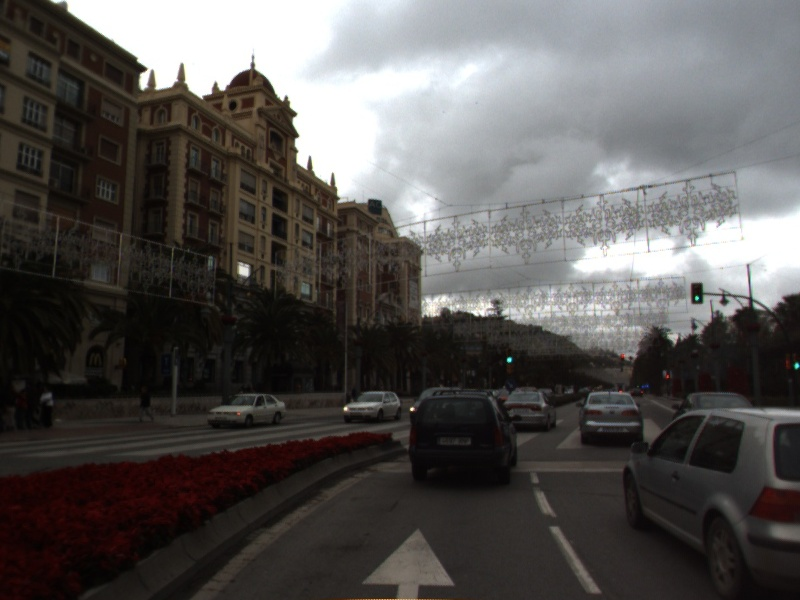STRAIGHT: (357, 523, 458, 600)
